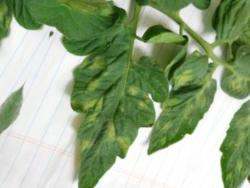Tomato mold leaf: (17, 11, 188, 188), (134, 56, 227, 172)
